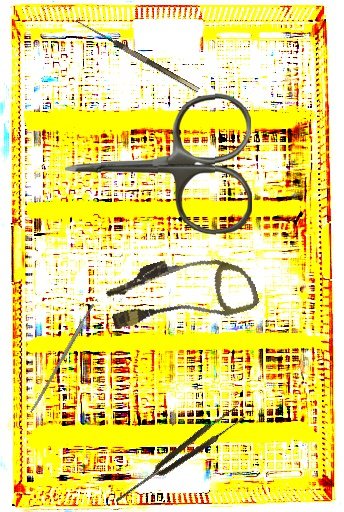Cannula: (101, 238, 261, 347)
Hook Surgical: (71, 17, 200, 100)
Iris Scissors: (63, 92, 253, 239)
Scalpel Handle: (29, 303, 96, 414)
Tissue Forceps: (109, 404, 248, 508)
